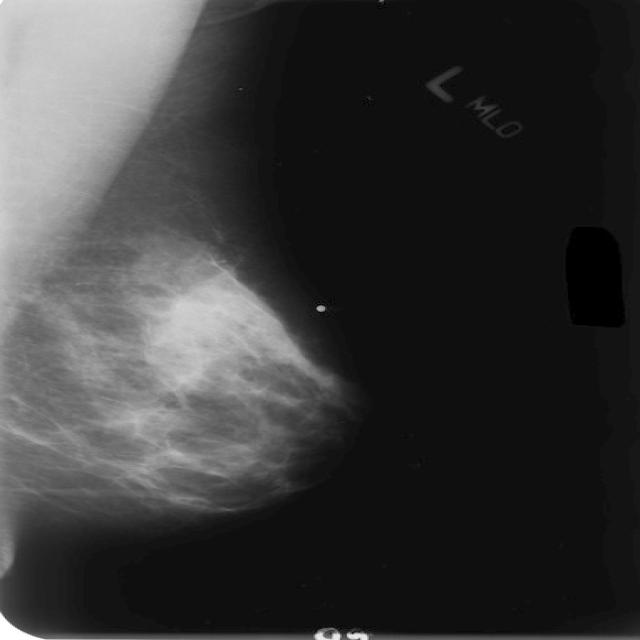tumour: (147, 295, 228, 342)
